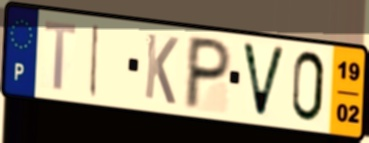0: (290, 49, 327, 126)
I: (87, 22, 102, 100)
K: (142, 31, 180, 108)
P: (181, 33, 235, 112)
T: (42, 18, 79, 94)
V: (239, 39, 288, 121)
